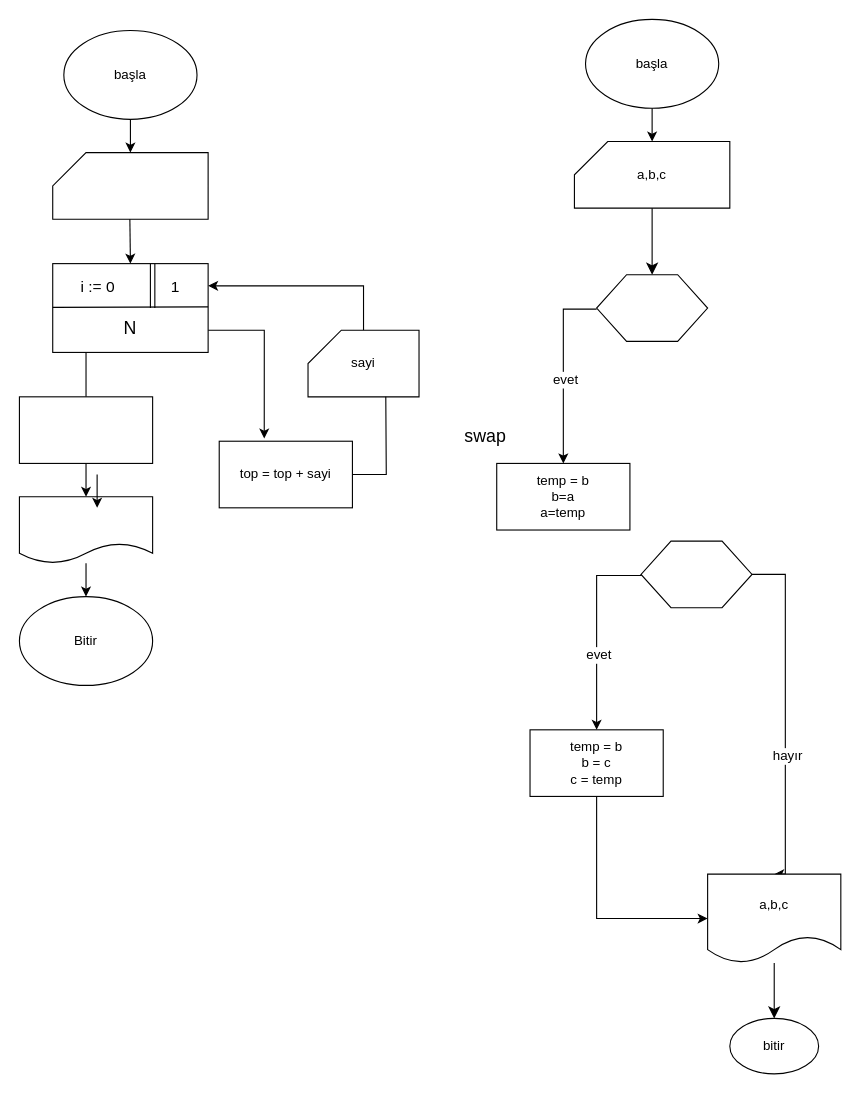
The diagram is 860 pixels wide and 1093 high, and some of its shapes have lost their labels. Each missing label, with the centre of its shape:
"a>=b" goes at pixel 652 307.
"b>=c" goes at pixel 696 574.
"ort = top / N" goes at pixel 85 429.
"top ort" goes at pixel 85 529.
"top=0 ort=0" goes at pixel 130 185.
